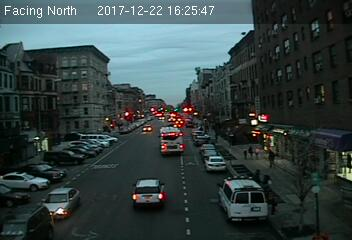bus: (158, 126, 184, 156)
car: (42, 187, 81, 221), (132, 178, 167, 209), (206, 155, 228, 174)
pedestrian: (267, 146, 275, 169)
police: (216, 175, 269, 223)
